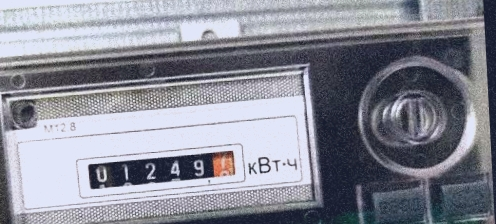0: (94, 162, 108, 183)
1: (119, 161, 130, 180)
2: (143, 159, 157, 180)
4: (168, 157, 180, 177)
7: (216, 150, 229, 169)
9: (191, 156, 205, 177)
screen: (67, 142, 245, 196)
